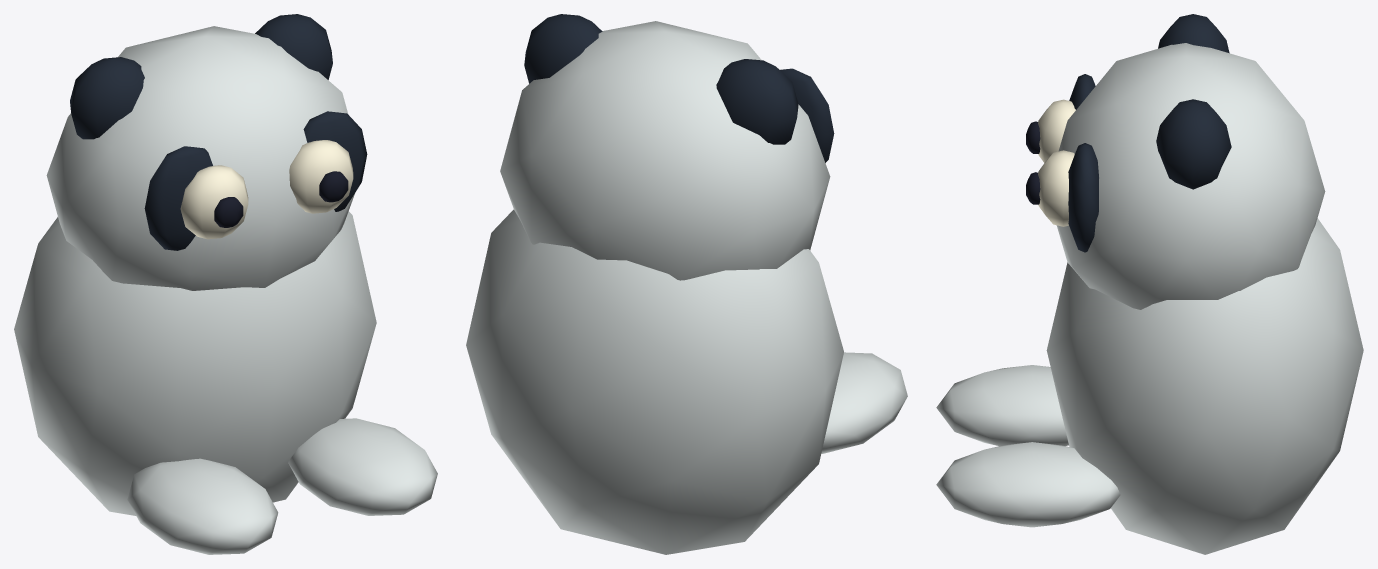
File: panda.glb
The picture shows the model from 3 angles, left to right: view 1: azimuth 30°, elevation 25°; view 2: azimuth 150°, elevation 25°; view 3: azimuth 270°, elevation 25°; orthographic projection. The views are drawn at different scales.
Visible parts, largest first — view 1: panda-low-poly-character; view 2: panda-low-poly-character; view 3: panda-low-poly-character.
Boxes of the visible parts, <box> form: panda-low-poly-character: <box>14,14,437,554</box>; panda-low-poly-character: <box>466,14,907,554</box>; panda-low-poly-character: <box>936,14,1363,554</box>.
Bounding box in the file's own units: 1.56 × 2.23 × 1.78.
